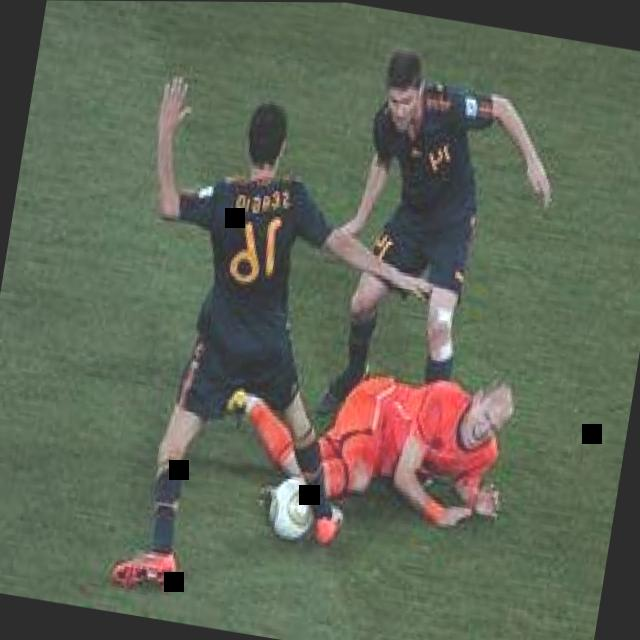Fall-Detected: (214, 313, 540, 560)
